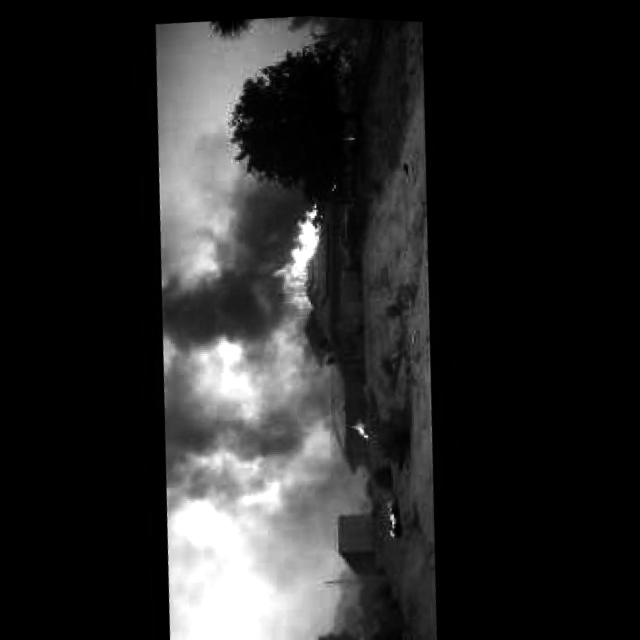no_helmet: (143, 187, 356, 524)
